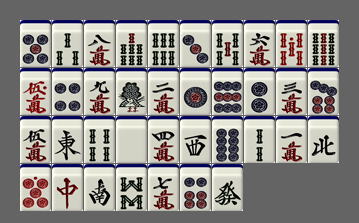0m: (20, 68, 51, 115)
0p: (20, 164, 51, 211)
0s: (276, 20, 307, 67)
1m: (276, 116, 307, 163)
1p: (180, 68, 211, 115)
1s: (116, 68, 147, 115)
1z: (52, 116, 83, 163)
2m: (148, 68, 179, 115)
2p: (244, 68, 275, 115)
2s: (244, 116, 275, 163)
2z: (84, 164, 115, 211)
3m: (276, 68, 307, 115)
3p: (180, 20, 211, 67)
3s: (52, 20, 83, 67)
3z: (180, 116, 211, 163)
4m: (148, 116, 179, 163)
4p: (52, 68, 83, 115)
4s: (84, 116, 115, 163)
4z: (308, 116, 339, 163)
5m: (20, 116, 51, 163)
5p: (20, 20, 51, 67)
5s: (212, 20, 243, 67)
5z: (116, 116, 147, 163)
6m: (244, 20, 275, 67)
6p: (180, 164, 211, 211)
6s: (148, 20, 179, 67)
6z: (212, 164, 243, 211)
7m: (148, 164, 179, 211)
7p: (308, 68, 339, 115)
7s: (116, 20, 147, 67)
7z: (52, 164, 83, 211)
8m: (84, 20, 115, 67)
8p: (212, 116, 243, 163)
8s: (116, 164, 147, 211)
9m: (84, 68, 115, 115)
9p: (212, 68, 243, 115)
9s: (308, 20, 339, 67)
